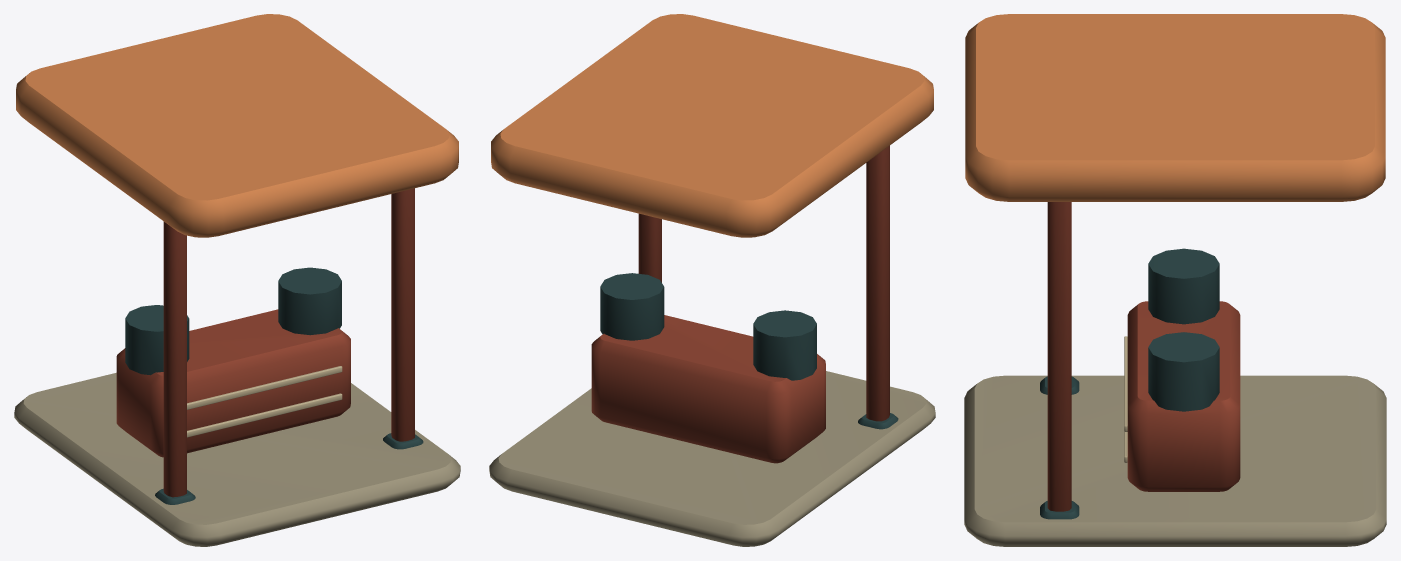
The model's file is valley_workshop_2.glb.
3 views of the same model, side by side, from view 1: azimuth 30°, elevation 25°; view 2: azimuth 150°, elevation 25°; view 3: azimuth 270°, elevation 25° (orthographic). The views are drawn at different scales.
Parts seen in each view (by area): view 1: Workshop2; view 2: Workshop2; view 3: Workshop2.
Part boxes in pixels (bbox=[...]): Workshop2: bbox=[14, 14, 460, 546]; Workshop2: bbox=[489, 14, 935, 546]; Workshop2: bbox=[964, 14, 1386, 546].
Bounding box in the file's own units: 2.16 × 2.51 × 2.48.
